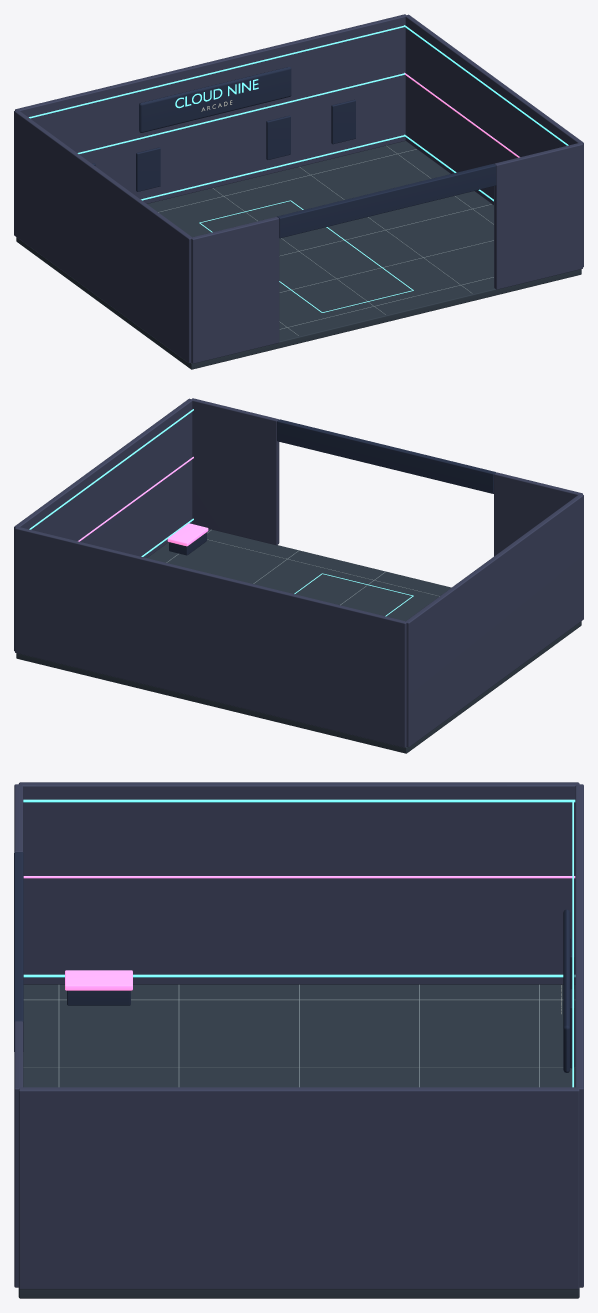
File: arcade-room.glb
The picture shows the model from 3 angles, top to bottom: view 1: azimuth 30°, elevation 25°; view 2: azimuth 150°, elevation 25°; view 3: azimuth 270°, elevation 25°; orthographic projection. The views are drawn at different scales.
Parts seen in each view (by area): view 1: Floor, Back wall, Left wall, Right wall, Entrance return, Entrance return.001, Entrance header, Back sign panel, Acoustic wall panel.001, Acoustic wall panel.002, Acoustic wall panel.003, Back light strip.002 (+2 smaller); view 2: Back wall, Left wall, Floor, Right wall, Entrance return.001, Entrance header, Entrance return, Bench cushion.001; view 3: Right wall, Left wall, Floor, Back wall, Side light strip.004, Side light strip, Entrance header, Entrance return.001, Side light strip.002, Bench cushion, Back sign panel, Bench base (+2 smaller).
Part boxes in pixels (bbox=[...]): Floor: bbox=[16, 141, 581, 369]; Back wall: bbox=[15, 14, 406, 203]; Left wall: bbox=[14, 110, 192, 363]; Right wall: bbox=[405, 14, 583, 267]; Entrance return: bbox=[191, 216, 279, 363]; Entrance return.001: bbox=[494, 143, 582, 289]; Entrance header: bbox=[277, 163, 496, 238]; Back sign panel: bbox=[139, 67, 291, 132]; Acoustic wall panel.001: bbox=[136, 147, 160, 191]; Acoustic wall panel.002: bbox=[266, 115, 290, 159]; Acoustic wall panel.003: bbox=[331, 99, 355, 144]; Back light strip.002: bbox=[29, 25, 404, 118]; Back wall: bbox=[15, 527, 406, 747]; Left wall: bbox=[405, 494, 583, 747]; Floor: bbox=[16, 529, 581, 753]; Right wall: bbox=[14, 398, 192, 651]; Entrance return.001: bbox=[191, 398, 279, 545]; Entrance header: bbox=[277, 419, 495, 493]; Entrance return: bbox=[494, 472, 582, 556]; Bench cushion.001: bbox=[167, 523, 208, 546]; Right wall: bbox=[18, 1087, 579, 1289]; Left wall: bbox=[19, 782, 579, 984]; Floor: bbox=[18, 984, 579, 1298]; Back wall: bbox=[575, 784, 583, 1287]; Side light strip.004: bbox=[23, 799, 575, 802]; Side light strip: bbox=[23, 974, 575, 977]; Entrance header: bbox=[14, 852, 23, 1051]; Entrance return.001: bbox=[14, 1021, 23, 1287]; Side light strip.002: bbox=[23, 876, 575, 878]; Bench cushion: bbox=[65, 970, 132, 990]; Back sign panel: bbox=[563, 909, 570, 1072]; Bench base: bbox=[67, 990, 130, 1005].
Bounding box in the file's own units: 18.22 × 5.8 × 14.23.
